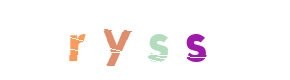R: (61, 0, 141, 80)
S: (117, 0, 197, 80), (156, 0, 236, 80)
Y: (105, 0, 185, 80)
